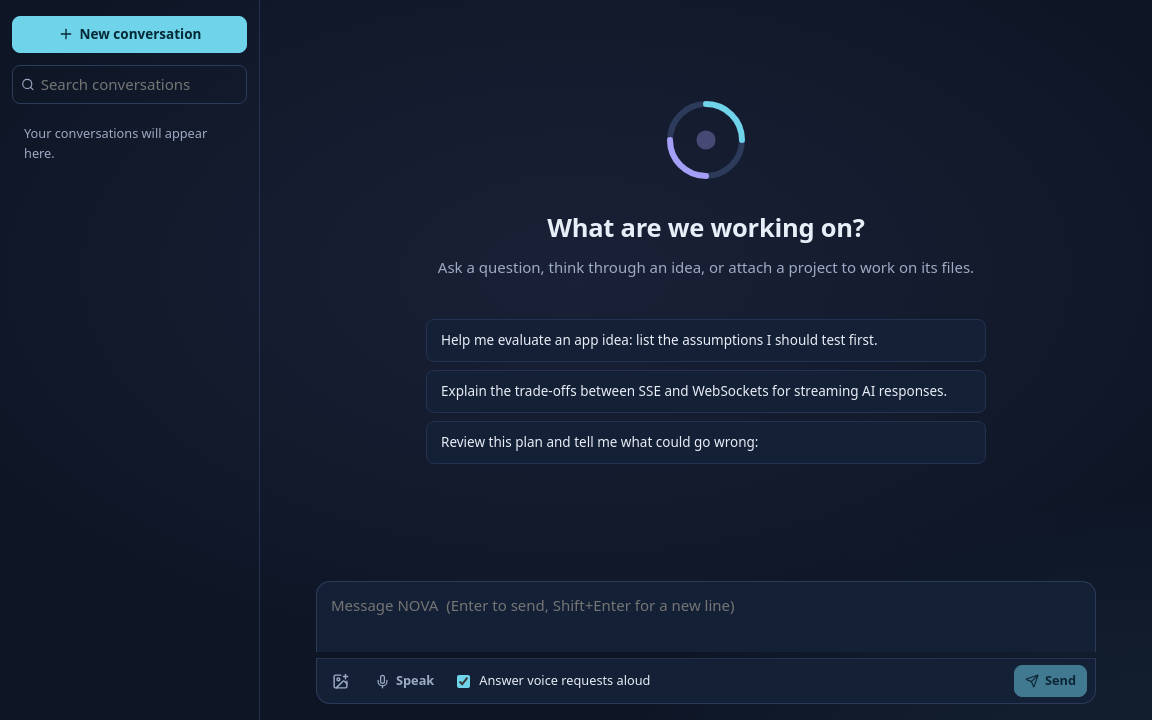
conversation › creates a conversation, streams the reply and sends the CSRF token
Type "Hello" into the text box labelled "Message NOVA" at point(706, 616), box left=316, top=580, right=1096, bottom=652
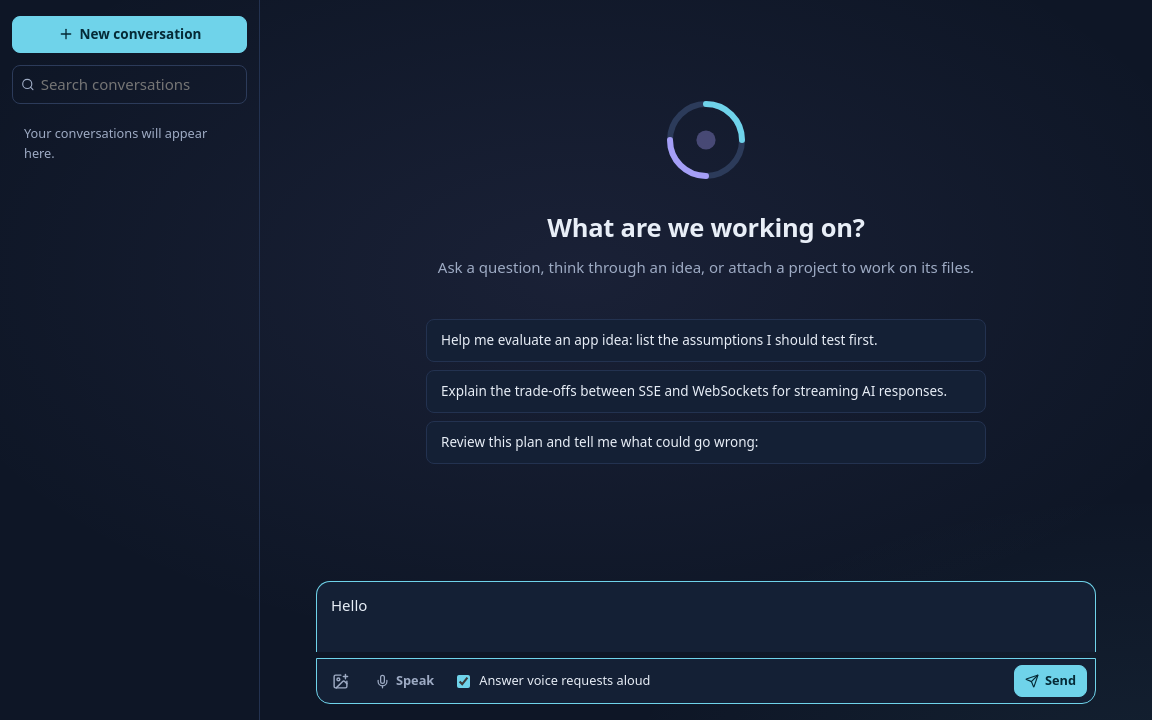
Press Enter
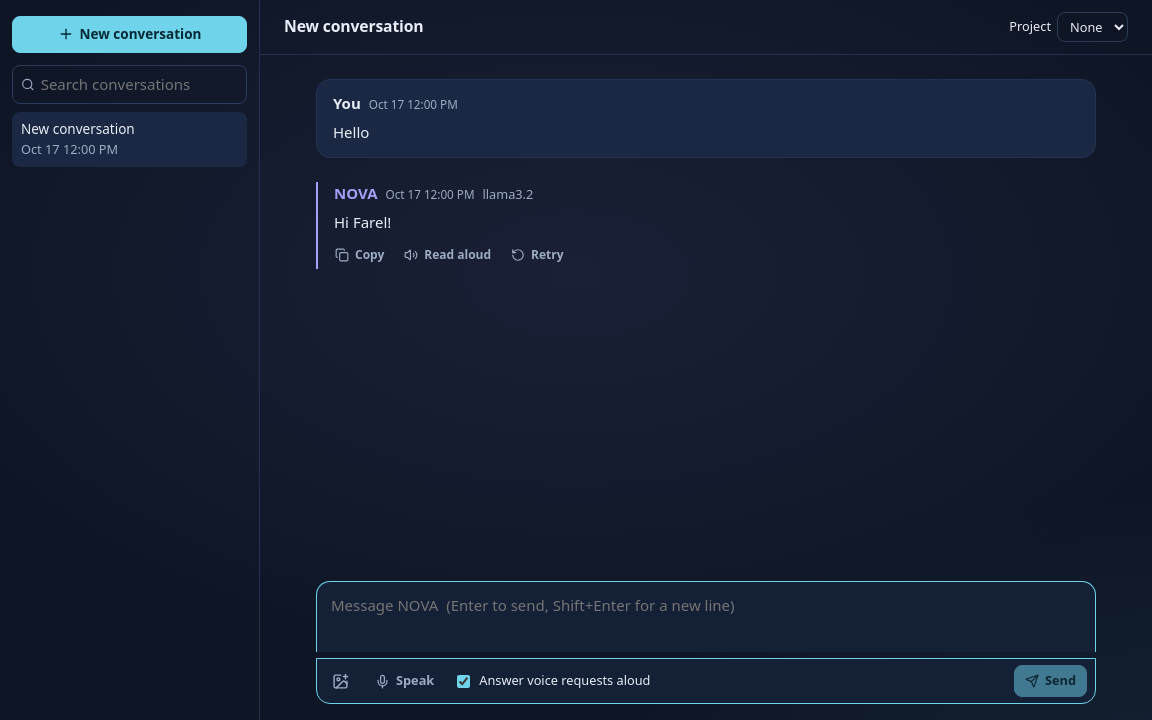
Result: the text "Hi Farel!" is shown at left=334, top=212, right=391, bottom=232
Result: the button "Copy" is shown at left=326, top=242, right=393, bottom=269
Result: the button "Retry" is shown at left=502, top=242, right=573, bottom=269
